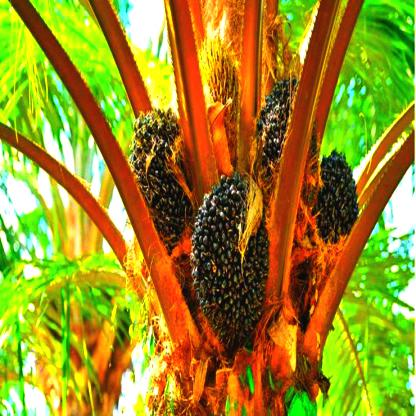palm-oil: (189, 169, 273, 356), (251, 64, 318, 199), (125, 103, 193, 234), (194, 34, 242, 168), (315, 151, 360, 246)
